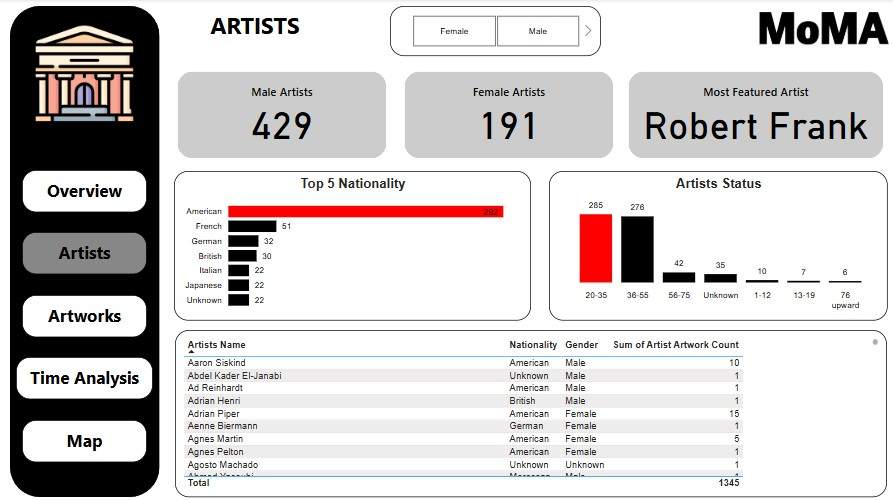

The dashboard page shown, as its layout file describes it:
{"tool":"powerbi","page":{"name":"Artists","canvas":[1280,720],"ordinal":1},"visuals":[{"type":"shape","box":[14.5,10.5,211.8,696.1],"z":0},{"type":"textbox","box":[31.2,242.4,177.2,59.5],"z":1000},{"type":"cardVisual","fields":{"Data":["Calculation.Male Artists"]},"box":[246.6,97.8,306.1,133.2],"z":2000},{"type":"textbox","box":[31.2,330.9,177.2,59.5],"z":3000},{"type":"cardVisual","fields":{"Data":["Calculation.Female Artists"]},"box":[568.3,97.8,306.1,133.2],"z":4000},{"type":"textbox","box":[240,10,243.3,63.3],"z":5000},{"type":"textbox","box":[31.2,596.7,177.2,59.5],"z":6000},{"type":"barChart","title":"Top 5 Nationality","fields":{"Y":["Calculation.Total Artist"],"Category":["Artists.Nationality"]},"box":[246.9,243.6,505.6,211.7],"z":7000},{"type":"textbox","box":[31.2,419.5,177.2,59.5],"z":8000},{"type":"tableEx","fields":{"Values":["Artists.DisplayName","Artists.Nationality","Artists.Gender","Artists.Artist Artwork Count"]},"box":[248,469.1,1009.1,236.7],"z":9000},{"type":"columnChart","title":"Artists Status","fields":{"Category":["Artists.Age Group"],"Y":["Calculation.Total Artist"]},"box":[778.3,243.4,479.5,212],"z":10000},{"type":"cardVisual","fields":{"Data":["Calculation.Most Featured Artist"]},"box":[885.8,97.8,371.3,133.2],"z":11000},{"type":"slicer","fields":{"Values":["Artists.Gender"]},"box":[552.8,9.9,299.1,70.9],"z":12000},{"type":"image","box":[31.2,26.9,177.2,157.3],"z":13000},{"type":"actionButton","box":[31.2,330.2,185.7,59.5],"z":14000},{"type":"textbox","box":[22.7,507.4,194.2,59.5],"z":15000},{"type":"image","box":[1071.5,1.4,192.8,79.4],"z":16000}]}

Visuals, with their boxes in screenshot pixels (x1, y1, x2, y2), scaled from the page's 1280x720 canvas onto the 893x500 screenshot:
shape: left=10, top=7, right=158, bottom=491
textbox: left=22, top=168, right=145, bottom=210
cardVisual - Calculation.Male Artists: left=172, top=68, right=386, bottom=160
textbox: left=22, top=230, right=145, bottom=271
cardVisual - Calculation.Female Artists: left=396, top=68, right=610, bottom=160
textbox: left=167, top=7, right=337, bottom=51
textbox: left=22, top=414, right=145, bottom=456
"Top 5 Nationality" barChart: left=172, top=169, right=525, bottom=316
textbox: left=22, top=291, right=145, bottom=333
tableEx - Artists.DisplayName x Artists.Nationality: left=173, top=326, right=877, bottom=490
"Artists Status" columnChart: left=543, top=169, right=878, bottom=316
cardVisual - Calculation.Most Featured Artist: left=618, top=68, right=877, bottom=160
slicer - Artists.Gender: left=386, top=7, right=594, bottom=56
image: left=22, top=19, right=145, bottom=128
actionButton: left=22, top=229, right=151, bottom=271
textbox: left=16, top=352, right=151, bottom=394
image: left=748, top=1, right=882, bottom=56
